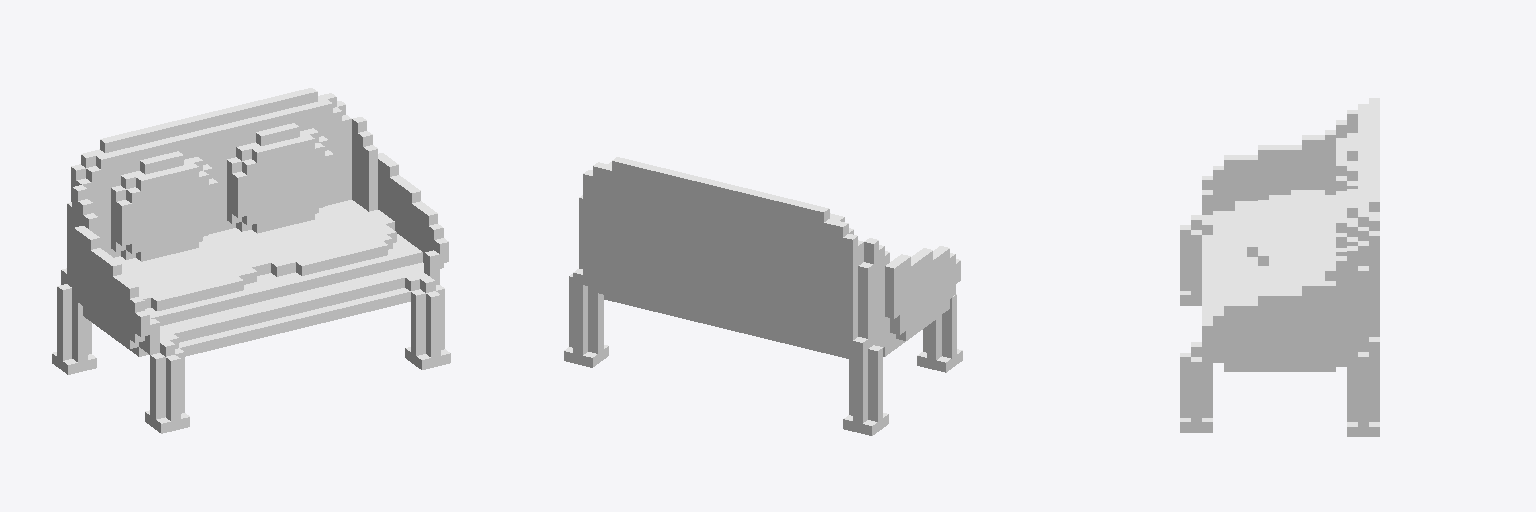
The model's file is prop_couch.obj.
3 views of the same model, side by side, from view 1: azimuth 30°, elevation 25°; view 2: azimuth 150°, elevation 25°; view 3: azimuth 270°, elevation 25° (orthographic).
Visible parts, largest first — view 1: object 1; view 2: object 1; view 3: object 1.
Part boxes in pixels (left/top/right/bottom): object 1: left=52, top=88, right=450, bottom=433; object 1: left=564, top=157, right=962, bottom=435; object 1: left=1180, top=98, right=1379, bottom=436.
Size of the model in its own units: 3.2 by 2.1 by 1.8.